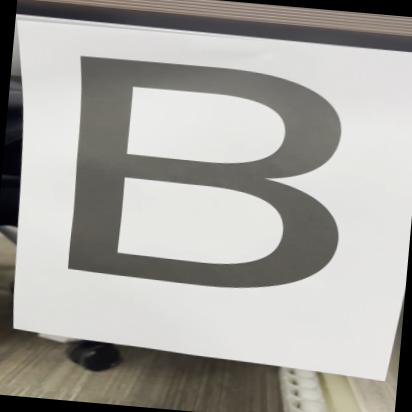seat: (34, 39, 382, 317)
